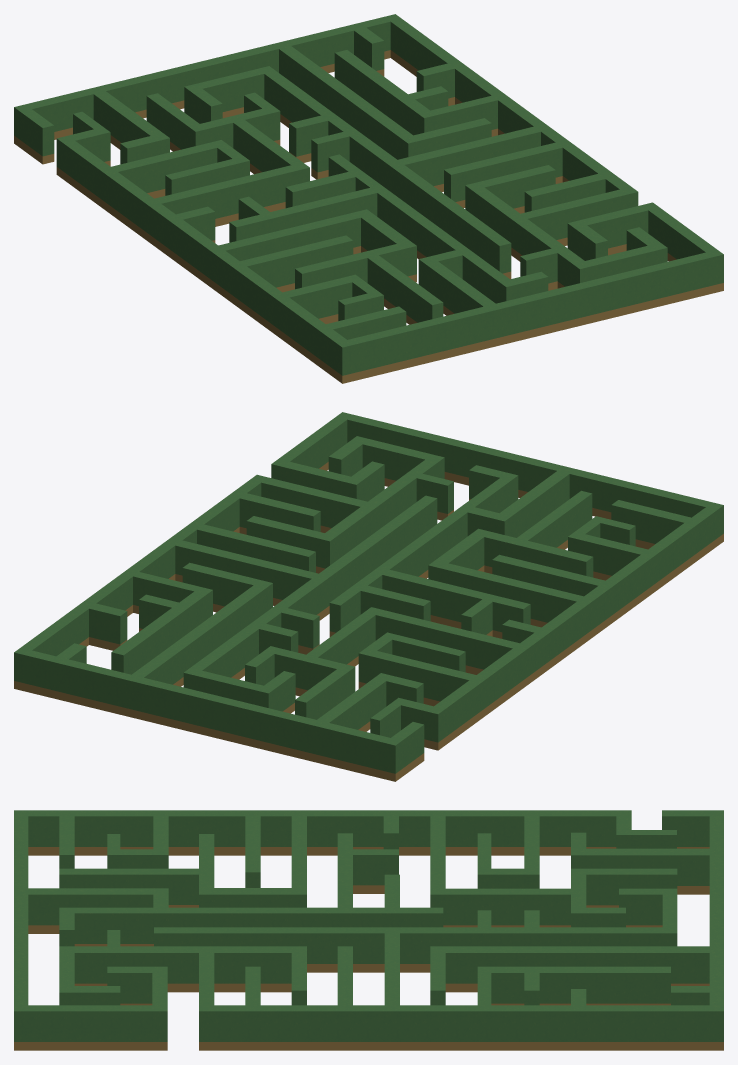
The model's file is maze 1.glb.
3 views of the same model, one above another, from view 1: azimuth 30°, elevation 25°; view 2: azimuth 150°, elevation 25°; view 3: azimuth 270°, elevation 25° (orthographic). The views are drawn at different scales.
Visible parts, largest first — view 1: pPlane1.001; view 2: pPlane1.001; view 3: pPlane1.001.
Part boxes in pixels (x1,y1,x2,y2): pPlane1.001: [14, 14, 723, 383]; pPlane1.001: [14, 412, 723, 781]; pPlane1.001: [14, 810, 723, 1050].
Size of what is drawn, in the model's own units: 46.35 by 4.22 by 69.11.
Materials: 2 (1 with a texture image).
